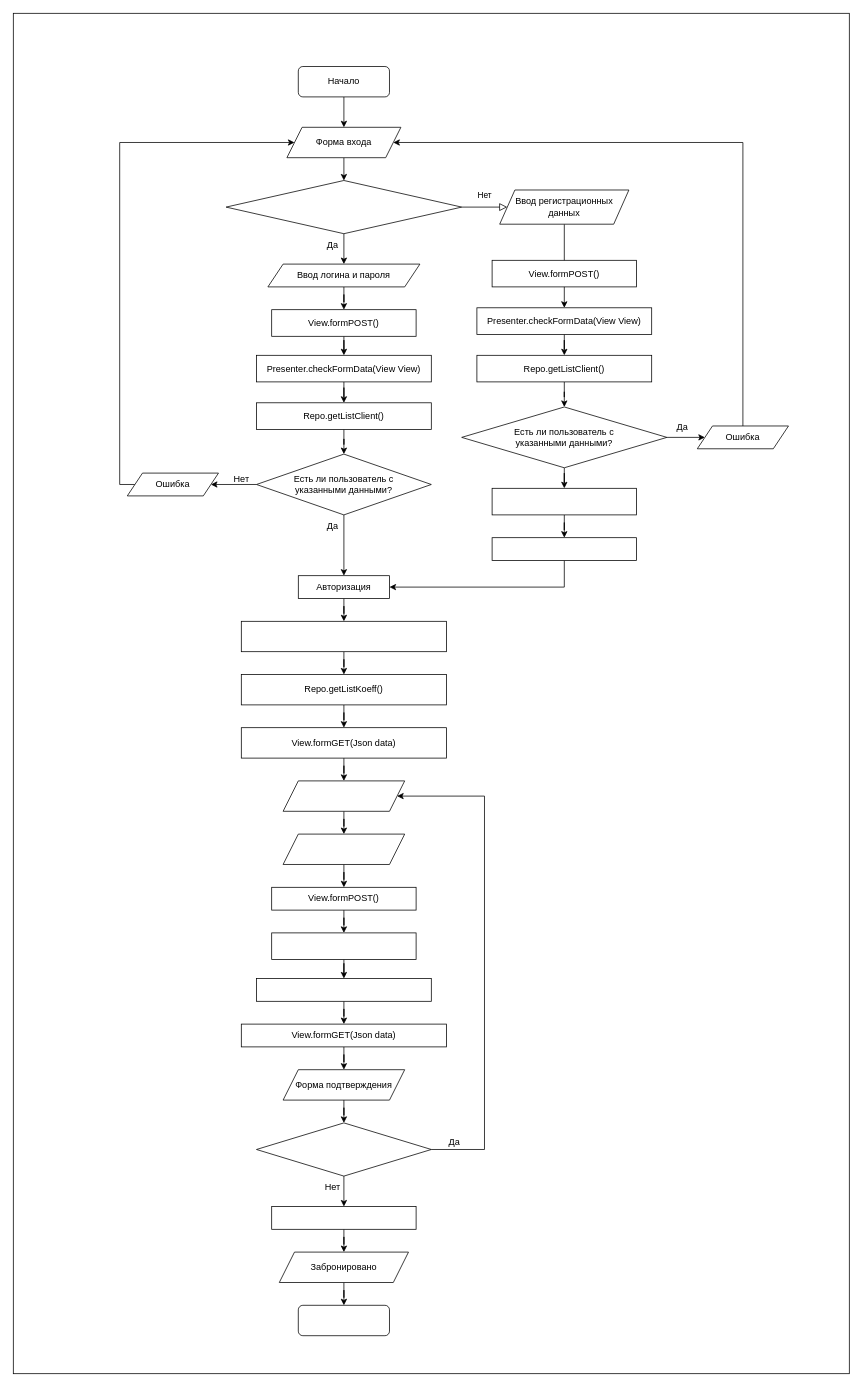
Image size: 863x1387. Some labels were removed from this diagram. Here are the shapes that lost their labels. From the top down, the centre of each, then its label:
[343,207]: Есть ли учетная запись? View.haveAutorization(String [] data)
[563,501]: Регистрация
[563,548]: Client = new Client()
[343,636]: Repo.getListTable()
[343,795]: Форма бронирования
[343,848]: Выбор параметров
[343,946]: Presenet.createBooking(iView)
[343,989]: Presenet.makeResponce(Booking)
[343,1149]: Изменить параметры?
[343,1217]: Repo.addInShedule():
[344,1320]: Конец
